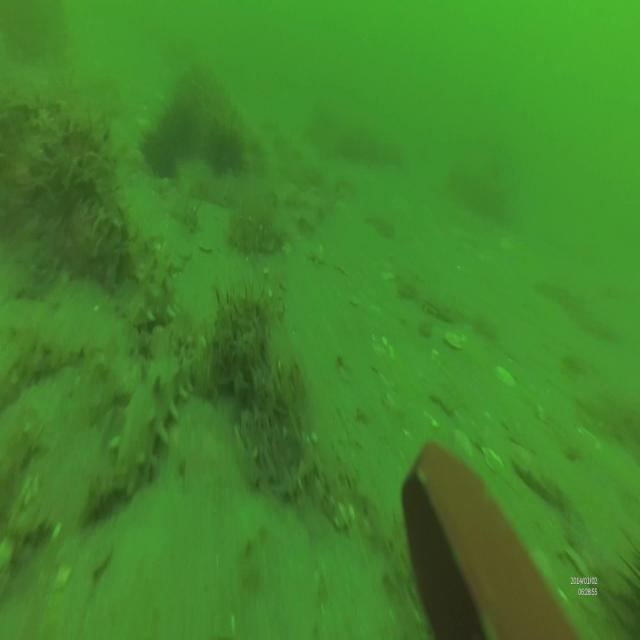echinus: (209, 117, 247, 177)
holothurian: (113, 338, 191, 498), (131, 240, 177, 327)
